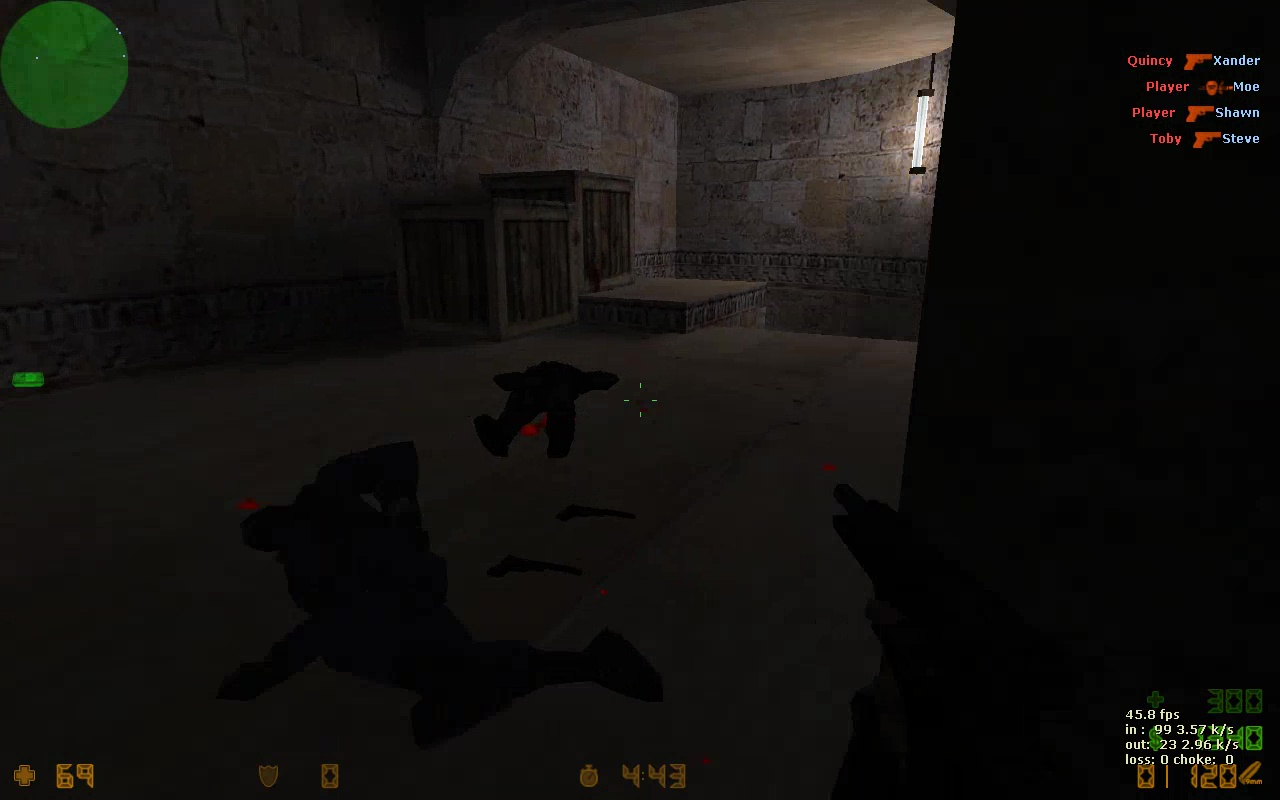dead: (222, 441, 667, 732), (470, 358, 617, 464)
